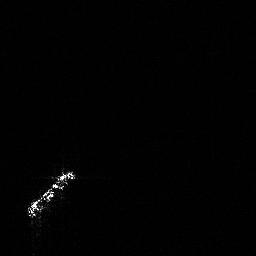ship: (22, 167, 80, 223)
